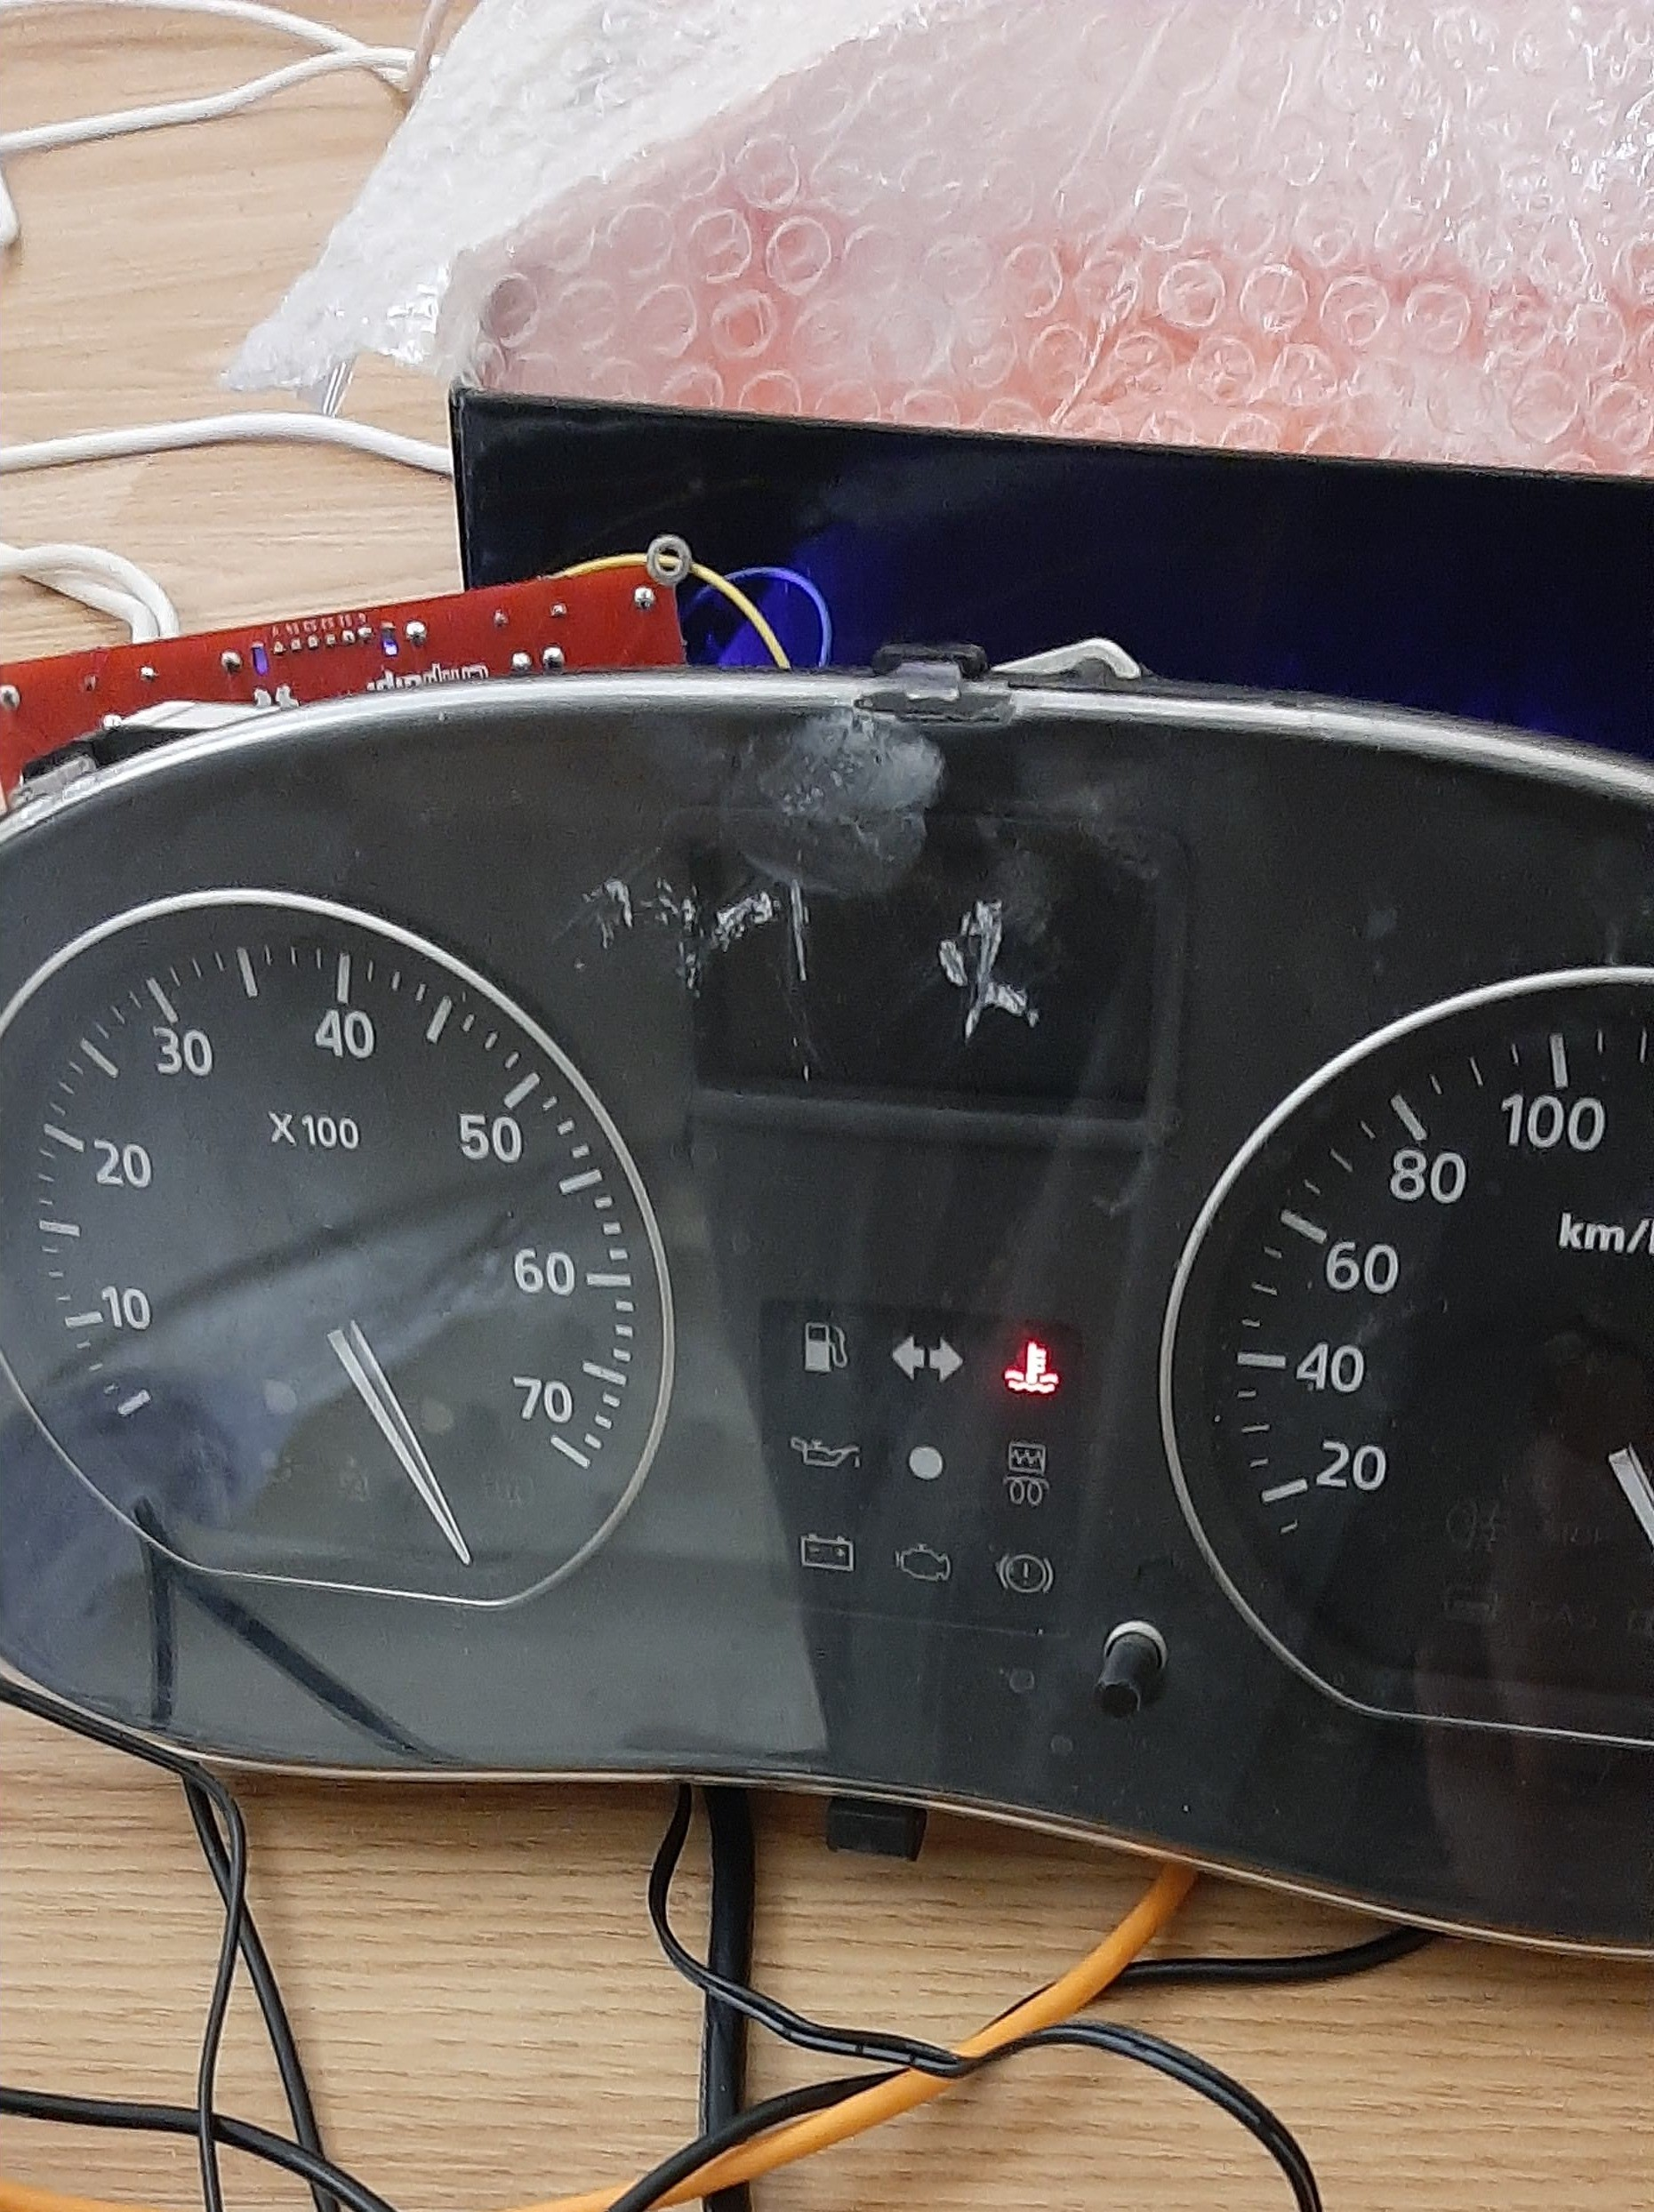Engine Overheating26: (1001, 1339, 1063, 1396)
